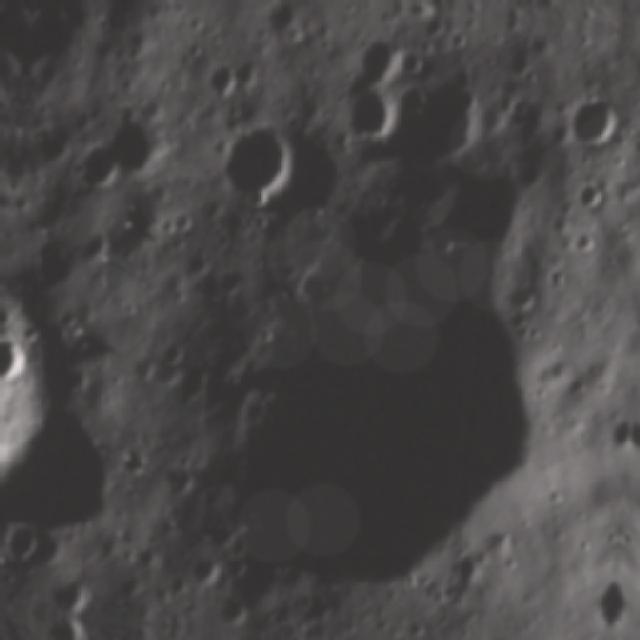crater: (161, 205, 541, 613), (426, 157, 534, 257), (208, 116, 297, 212), (334, 27, 408, 98), (331, 74, 395, 154), (562, 87, 626, 159), (111, 108, 175, 177), (67, 134, 121, 198), (0, 513, 49, 565), (72, 218, 117, 272), (258, 0, 312, 43), (196, 56, 238, 96), (500, 275, 542, 313), (572, 176, 611, 212), (500, 86, 538, 122), (394, 43, 432, 77), (158, 206, 193, 240), (156, 332, 190, 363), (572, 226, 600, 252)
